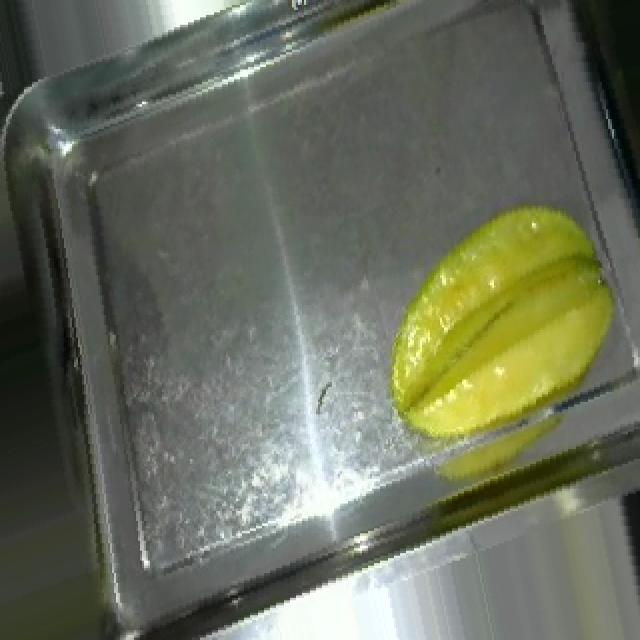fruit: (348, 166, 640, 476)
